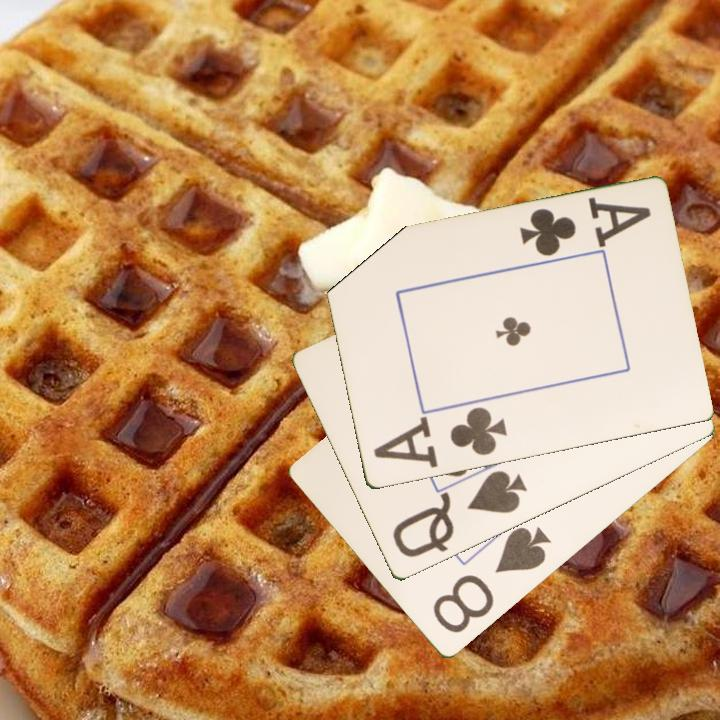8s: (429, 524, 554, 637)
Ac: (369, 404, 510, 472), (515, 194, 654, 260)
Qs: (388, 467, 530, 561)
